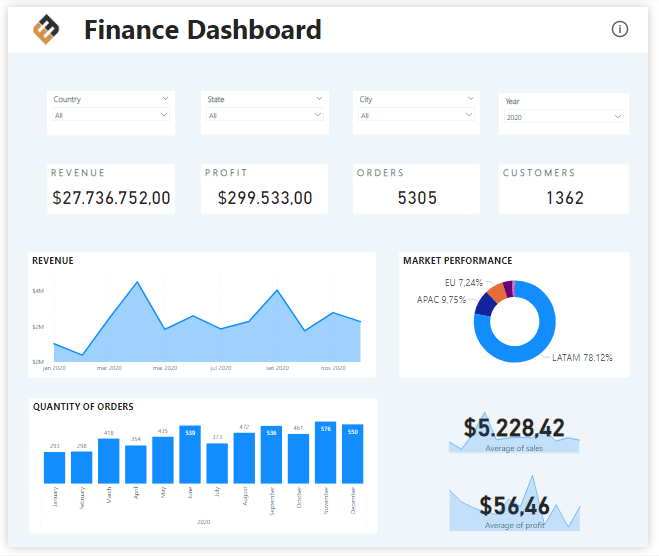

The page's visual inventory and layout, read from the dashboard file:
{"tool":"powerbi","page":{"name":"Page 1","canvas":[1280,1080],"ordinal":0},"visuals":[{"type":"areaChart","fields":{"Category":["orders_abt.order_date.Variation.Date Hierarchy.Year","orders_abt.order_date.Variation.Date Hierarchy.Month"],"Y":["Avg(orders_abt.profit)"]},"box":[867,919,291.3,135.4],"z":0},{"type":"card","fields":{"Values":["Avg(orders_abt.profit)"]},"box":[868.6,938.6,291.4,125.7],"z":2000},{"type":"areaChart","fields":{"Category":["orders_abt.order_date.Variation.Date Hierarchy.Year","orders_abt.order_date.Variation.Date Hierarchy.Month"],"Y":["Avg(orders_abt.profit)"]},"box":[868.6,918.6,290,135.7],"z":3000},{"type":"areaChart","fields":{"Category":["orders_abt.order_date.Variation.Date Hierarchy.Year","orders_abt.order_date.Variation.Date Hierarchy.Month"],"Y":["Avg(orders_abt.sales)"]},"box":[868.6,781.4,290,117.1],"z":4000},{"type":"card","fields":{"Values":["Avg(orders_abt.sales)"]},"box":[890.8,791.4,244.9,107.7],"z":5000},{"type":"areaChart","title":"REVENUE","fields":{"Category":["orders_abt.order_date.Variation.Date Hierarchy.Year","orders_abt.order_date.Variation.Date Hierarchy.Month"],"Y":["Sum(orders_abt.sales)"]},"box":[40,490,695.7,251.4],"z":6000},{"type":"columnChart","title":"QUANTITY OF ORDERS","fields":{"Y":["CountNonNull(orders_abt.order_id)"],"Category":["orders_abt.order_date.Variation.Date Hierarchy.Year","orders_abt.order_date.Variation.Date Hierarchy.Month"]},"box":[41.4,782.9,697.1,271.4],"z":7000},{"type":"slicer","fields":{"Values":["orders_abt.order_date.Variation.Date Hierarchy.Year"]},"box":[982.9,172.9,260,82.9],"z":8000},{"type":"card","title":"R E V E N U E","fields":{"Values":["Sum(orders_abt.sales)"]},"box":[77.1,314.3,255.7,100],"z":9000},{"type":"card","title":"O R D E R S","fields":{"Values":["CountNonNull(orders_abt.order_id)"]},"box":[690,314.3,254.3,100],"z":10000},{"type":"donutChart","title":"MARKET PERFORMANCE","fields":{"Category":["orders_abt.market"],"Y":["Sum(orders_abt.sales)"]},"box":[781.4,490,461.4,251.4],"z":11000},{"type":"slicer","fields":{"Values":["orders_abt.country"]},"box":[77.1,167.1,255.7,88.6],"z":12000},{"type":"slicer","fields":{"Values":["orders_abt.state"]},"box":[385.7,168.6,255.7,87.1],"z":13000},{"type":"slicer","fields":{"Values":["orders_abt.city"]},"box":[690,168.6,254.3,87.1],"z":14000},{"type":"card","title":"P R O F I T","fields":{"Values":["Sum(orders_abt.profit)"]},"box":[385.7,314.3,254.3,100],"z":15000},{"type":"card","title":"C U S T O M E R S","fields":{"Values":["Count(orders_abt.customer_id)"]},"box":[982.9,314.3,260,100],"z":16000},{"type":"textbox","box":[0,0,1280,91.4],"z":17000},{"type":"image","box":[24.3,5.7,104.3,78.6],"z":18000},{"type":"actionButton","box":[1202.9,22.9,45.7,44.3],"z":19000},{"type":"areaChart","fields":{"Category":["orders_abt.order_date.Variation.Date Hierarchy.Year","orders_abt.order_date.Variation.Date Hierarchy.Month"],"Y":["Avg(orders_abt.sales)"]},"box":[865.6,780.9,291.3,116.2],"z":20000}]}

Visuals, with their boxes in screenshot pixels (x1, y1, x2, y2), scaled from the page's 1280x1080 canvas onto the 659x556 screenshot:
areaChart - orders_abt.order_date.Variation.Date Hierarchy.Year x orders_abt.order_date.Variation.Date Hierarchy.Month: bbox(446, 473, 596, 543)
card - Avg(orders_abt.profit): bbox(447, 483, 597, 548)
areaChart - orders_abt.order_date.Variation.Date Hierarchy.Year x orders_abt.order_date.Variation.Date Hierarchy.Month: bbox(447, 473, 596, 543)
areaChart - orders_abt.order_date.Variation.Date Hierarchy.Year x orders_abt.order_date.Variation.Date Hierarchy.Month: bbox(447, 402, 596, 463)
card - Avg(orders_abt.sales): bbox(459, 407, 585, 463)
"REVENUE" areaChart: bbox(21, 252, 379, 382)
"QUANTITY OF ORDERS" columnChart: bbox(21, 403, 380, 543)
slicer - orders_abt.order_date.Variation.Date Hierarchy.Year: bbox(506, 89, 640, 132)
"R E V E N U E" card: bbox(40, 162, 171, 213)
"O R D E R S" card: bbox(355, 162, 486, 213)
"MARKET PERFORMANCE" donutChart: bbox(402, 252, 640, 382)
slicer - orders_abt.country: bbox(40, 86, 171, 132)
slicer - orders_abt.state: bbox(199, 87, 330, 132)
slicer - orders_abt.city: bbox(355, 87, 486, 132)
"P R O F I T" card: bbox(199, 162, 330, 213)
"C U S T O M E R S" card: bbox(506, 162, 640, 213)
textbox: bbox(0, 0, 658, 47)
image: bbox(13, 3, 66, 43)
actionButton: bbox(619, 12, 643, 35)
areaChart - orders_abt.order_date.Variation.Date Hierarchy.Year x orders_abt.order_date.Variation.Date Hierarchy.Month: bbox(446, 402, 596, 462)
